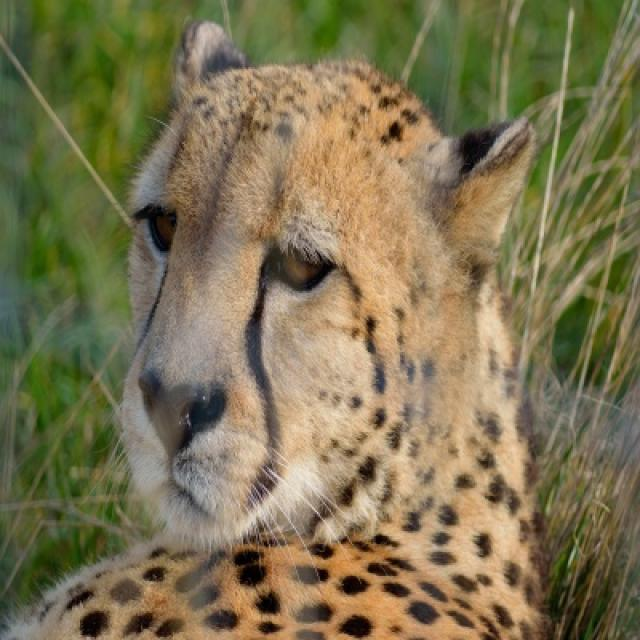Cheetah: (0, 21, 555, 638)
